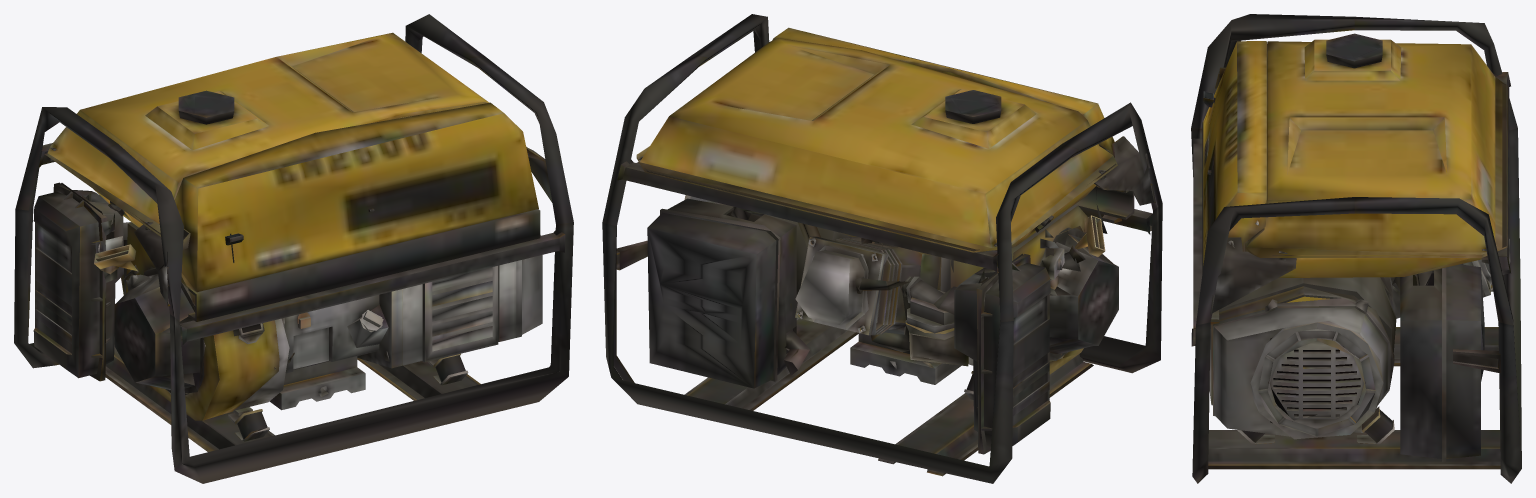
File: portable_generator.glb
3 views of the same model, side by side, from view 1: azimuth 30°, elevation 25°; view 2: azimuth 150°, elevation 25°; view 3: azimuth 270°, elevation 25° (orthographic).
Parts seen in each view (by area): view 1: portable_generator; view 2: portable_generator; view 3: portable_generator.
Boxes of the visible parts, x1,y1,x2,y2 form: portable_generator: [14, 14, 573, 483]; portable_generator: [602, 14, 1162, 483]; portable_generator: [1191, 14, 1521, 483].
Bounding box in the file's own units: 0.8146 × 0.5752 × 0.5573.
Materials: 2 (2 with a texture image).
